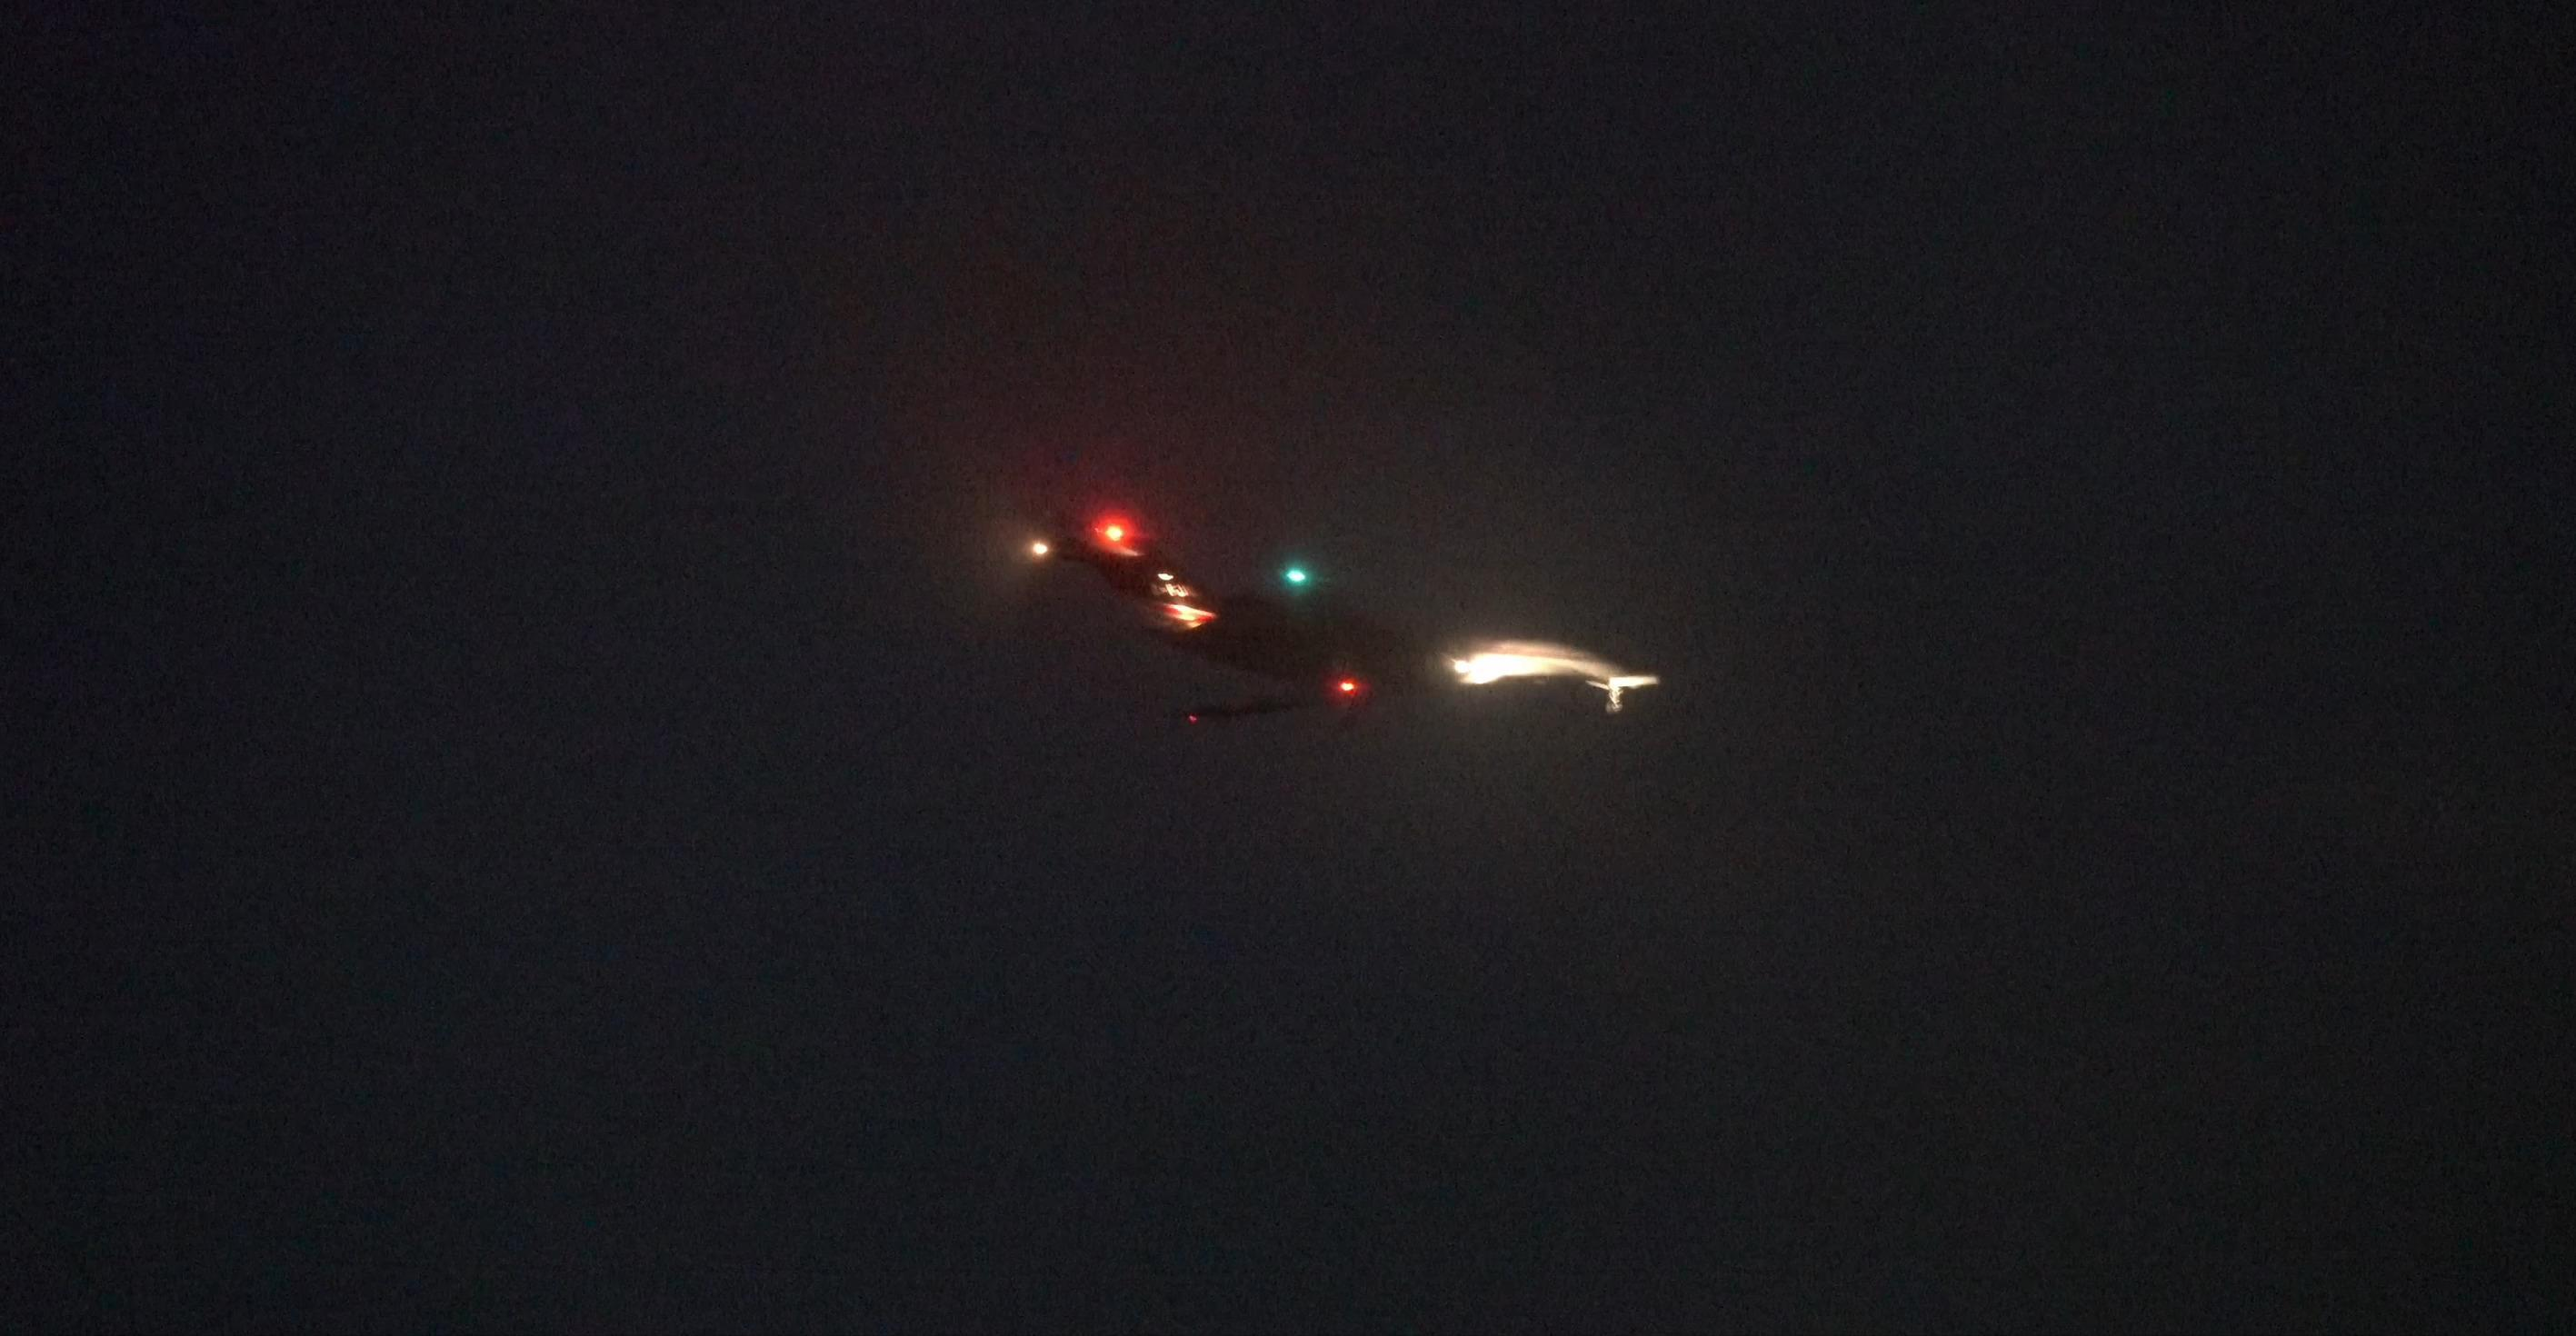Plane: (1038, 423, 1632, 772)
